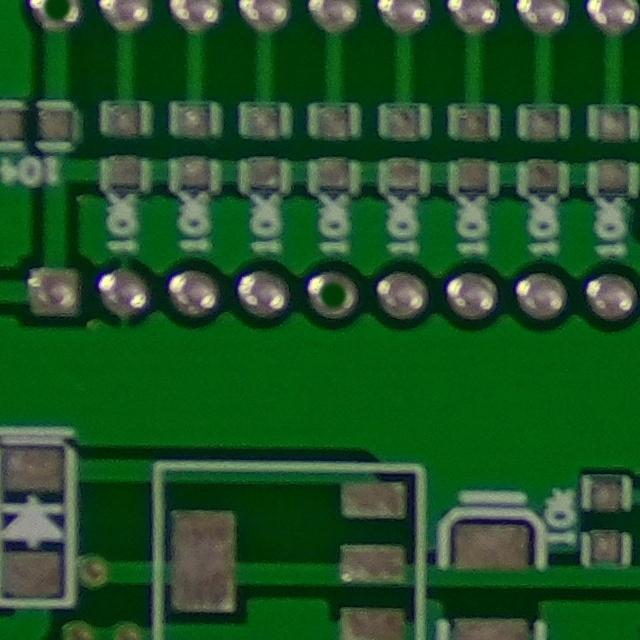missing_hole: (305, 260, 364, 328), (27, 0, 85, 38)
